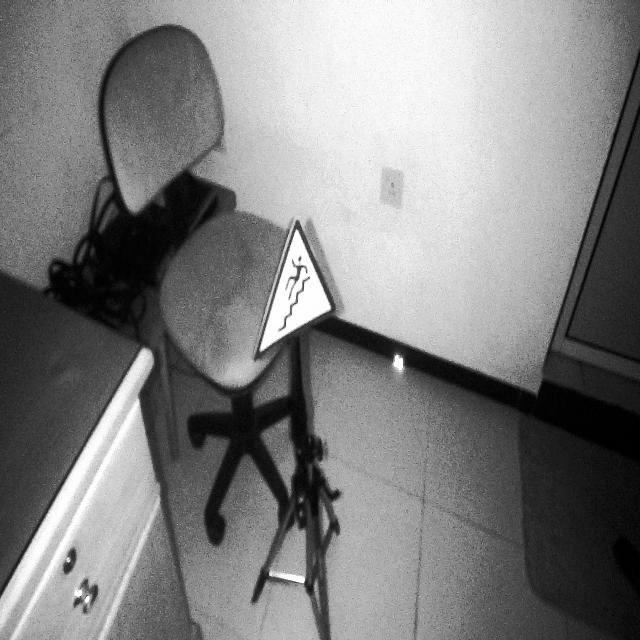Sign: (252, 215, 336, 365)
